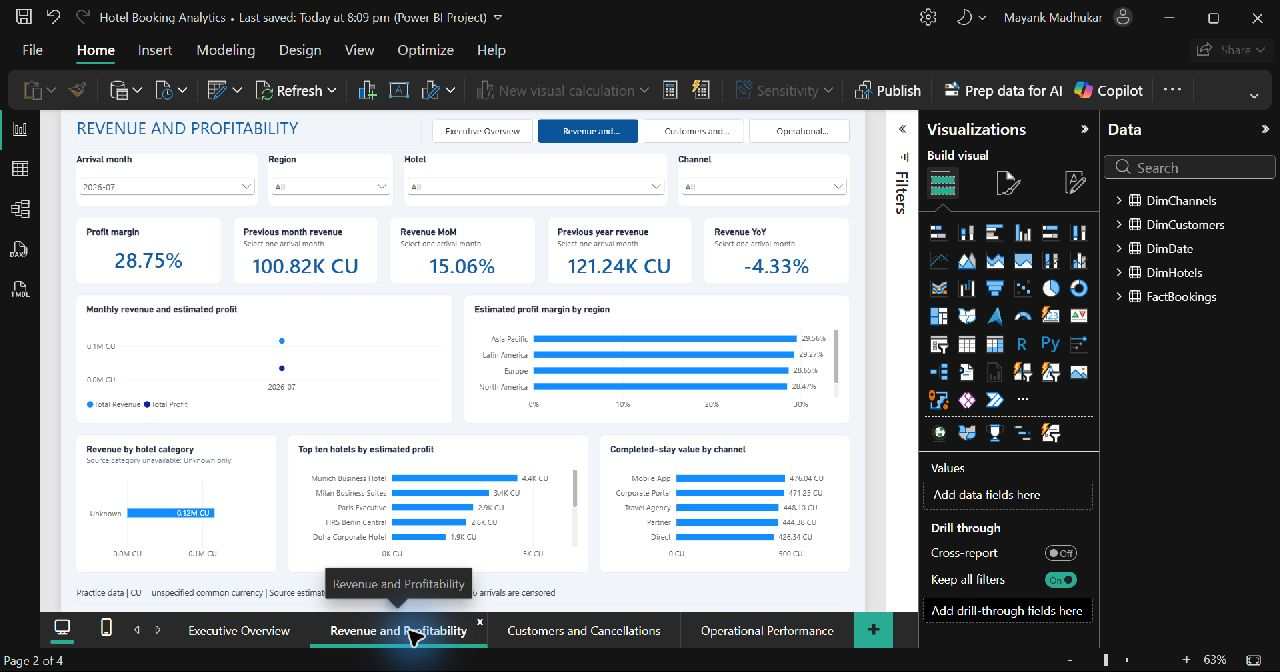

What the dashboard file says about the page in this screenshot:
{"tool":"powerbi","page":{"name":"Revenue and Profitability","canvas":[1280,800],"ordinal":1},"visuals":[{"type":"textbox","title":"Header","box":[24,10,550,48],"z":124},{"type":"slicer","title":"Arrival month","fields":{"Values":["DimDate.year_month"]},"box":[24,70,290,84],"z":724},{"type":"pageNavigator","title":"Page navigation","box":[590,14,666,40],"z":730},{"type":"slicer","title":"Region","fields":{"Values":["DimHotels.region"]},"box":[330,70,200,84],"z":1030},{"type":"slicer","title":"Hotel","fields":{"Values":["DimHotels.hotel_name"]},"box":[546,70,420,84],"z":1246},{"type":"slicer","title":"Channel","fields":{"Values":["DimChannels.channel_name"]},"box":[982,70,274,84],"z":1682},{"type":"card","title":"Profit margin","fields":{"Values":["FactBookings.Profit Margin"]},"box":[24,172,232,105],"z":1744},{"type":"card","title":"Previous month revenue","fields":{"Values":["FactBookings.Revenue Previous Month"]},"box":[274,172,232,105],"z":1994},{"type":"card","title":"Revenue MoM","fields":{"Values":["FactBookings.Revenue Month-over-Month %"]},"box":[524,172,232,105],"z":2244},{"type":"card","title":"Previous year revenue","fields":{"Values":["FactBookings.Revenue Previous Year"]},"box":[774,172,232,105],"z":2494},{"type":"card","title":"Revenue YoY","fields":{"Values":["FactBookings.Revenue Year-over-Year %"]},"box":[1024,172,232,105],"z":2744},{"type":"lineChart","title":"Monthly revenue and estimated profit","fields":{"Category":["DimDate.year_month"],"Y":["FactBookings.Total Revenue","FactBookings.Total Profit"]},"box":[24,295,600,205],"z":2974},{"type":"clusteredBarChart","title":"Estimated profit margin by region","fields":{"Category":["DimHotels.region"],"Y":["FactBookings.Profit Margin"]},"box":[642,295,614,205],"z":3592},{"type":"clusteredBarChart","title":"Revenue by hotel category","fields":{"Category":["DimHotels.hotel_category"],"Y":["FactBookings.Total Revenue"]},"box":[24,518,320,220],"z":5204},{"type":"clusteredBarChart","title":"Top ten hotels by estimated profit","fields":{"Category":["DimHotels.hotel_name"],"Y":["FactBookings.Top Ten Hotel Profit"]},"box":[362,518,478,220],"z":5542},{"type":"clusteredBarChart","title":"Completed-stay value by channel","fields":{"Category":["DimChannels.channel_name"],"Y":["FactBookings.Average Booking Value"]},"box":[858,518,398,220],"z":6038},{"type":"textbox","title":"Source note","box":[24,758,1232,30],"z":7604}]}

Visuals, with their boxes on the page's 1280x800 design canvas (x1, y1, x2, y2). These are canvas units, not pixel positions in the 1280x672 screenshot, which may show the page scaled, cropped or inside an application window:
"Header" textbox: x1=24, y1=10, x2=574, y2=58
"Arrival month" slicer: x1=24, y1=70, x2=314, y2=154
"Page navigation" pageNavigator: x1=590, y1=14, x2=1256, y2=54
"Region" slicer: x1=330, y1=70, x2=530, y2=154
"Hotel" slicer: x1=546, y1=70, x2=966, y2=154
"Channel" slicer: x1=982, y1=70, x2=1256, y2=154
"Profit margin" card: x1=24, y1=172, x2=256, y2=277
"Previous month revenue" card: x1=274, y1=172, x2=506, y2=277
"Revenue MoM" card: x1=524, y1=172, x2=756, y2=277
"Previous year revenue" card: x1=774, y1=172, x2=1006, y2=277
"Revenue YoY" card: x1=1024, y1=172, x2=1256, y2=277
"Monthly revenue and estimated profit" lineChart: x1=24, y1=295, x2=624, y2=500
"Estimated profit margin by region" clusteredBarChart: x1=642, y1=295, x2=1256, y2=500
"Revenue by hotel category" clusteredBarChart: x1=24, y1=518, x2=344, y2=738
"Top ten hotels by estimated profit" clusteredBarChart: x1=362, y1=518, x2=840, y2=738
"Completed-stay value by channel" clusteredBarChart: x1=858, y1=518, x2=1256, y2=738
"Source note" textbox: x1=24, y1=758, x2=1256, y2=788
